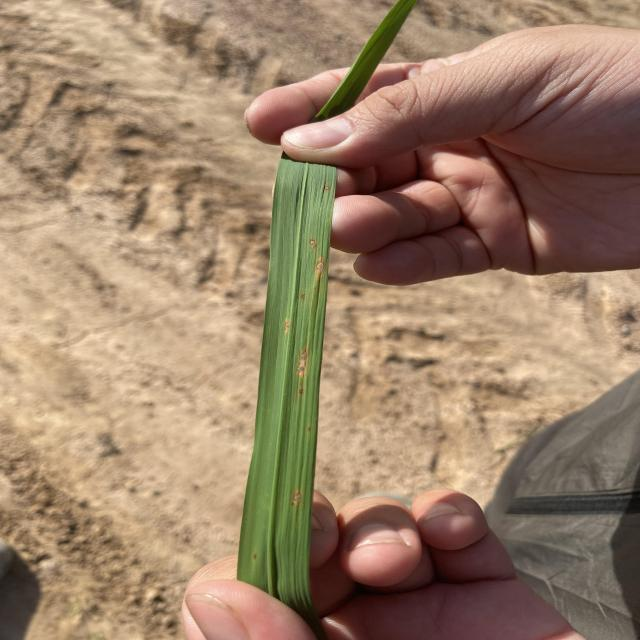Dao on: (297, 348, 308, 376), (316, 258, 326, 274), (293, 492, 301, 504), (285, 320, 290, 332), (310, 239, 316, 247), (324, 186, 329, 190), (299, 390, 303, 394), (302, 294, 306, 298)
